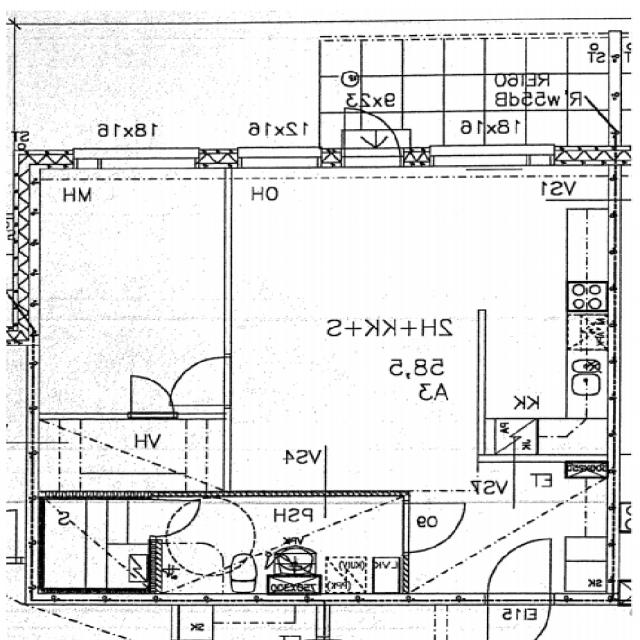door: (488, 539, 551, 604), (345, 99, 400, 168), (404, 503, 465, 552), (169, 357, 231, 405), (151, 500, 203, 536), (132, 376, 174, 418)
